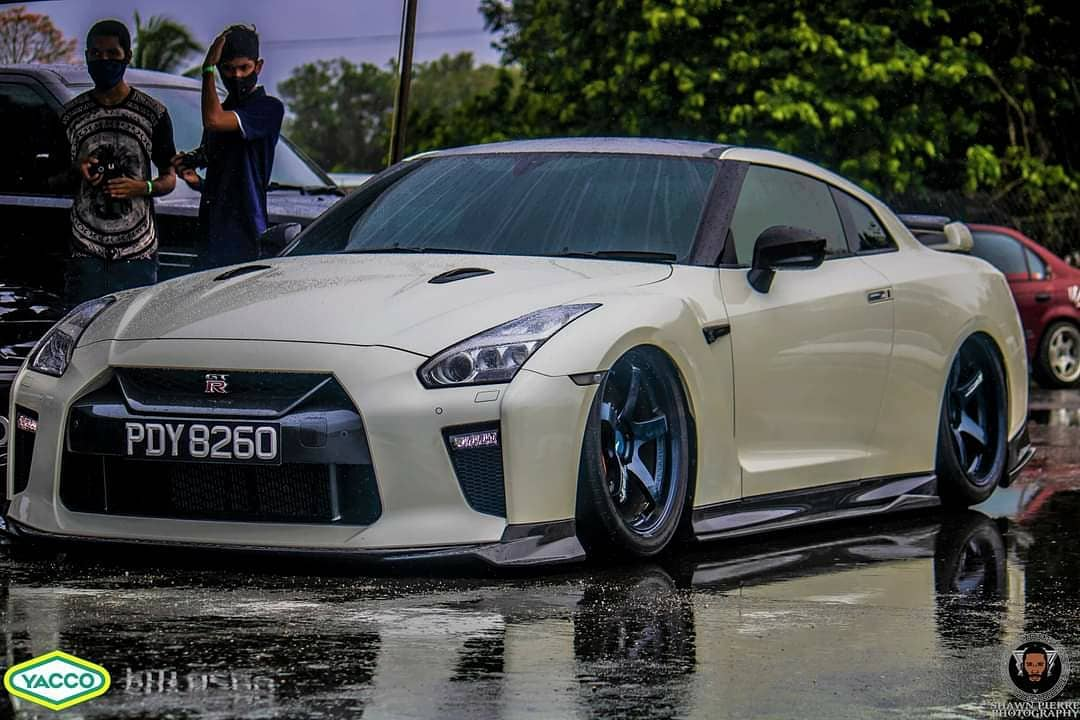License-Plate: (121, 416, 280, 458)
